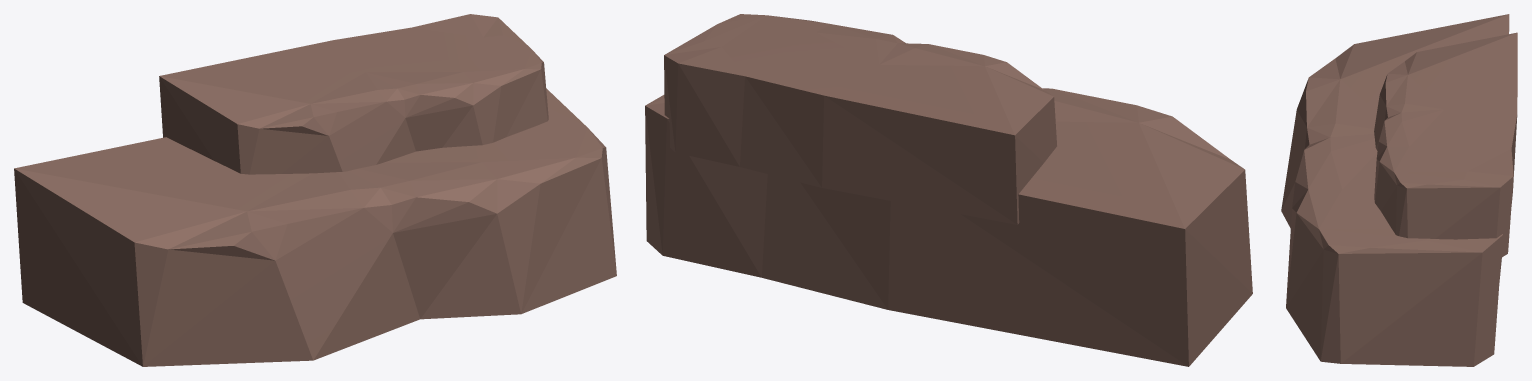
File: rock_001.fbx
The picture shows the model from 3 angles, left to right: view 1: azimuth 30°, elevation 25°; view 2: azimuth 150°, elevation 25°; view 3: azimuth 270°, elevation 25°; orthographic projection. The views are drawn at different scales.
Parts seen in each view (by area): view 1: rock.001; view 2: rock.001; view 3: rock.001.
Part boxes in pixels (bbox=[...]): rock.001: bbox=[14, 14, 616, 366]; rock.001: bbox=[645, 14, 1252, 366]; rock.001: bbox=[1281, 14, 1517, 366].
Bounding box in the file's own units: 3807 × 1448 × 1729.
1 material, 1 textured.
